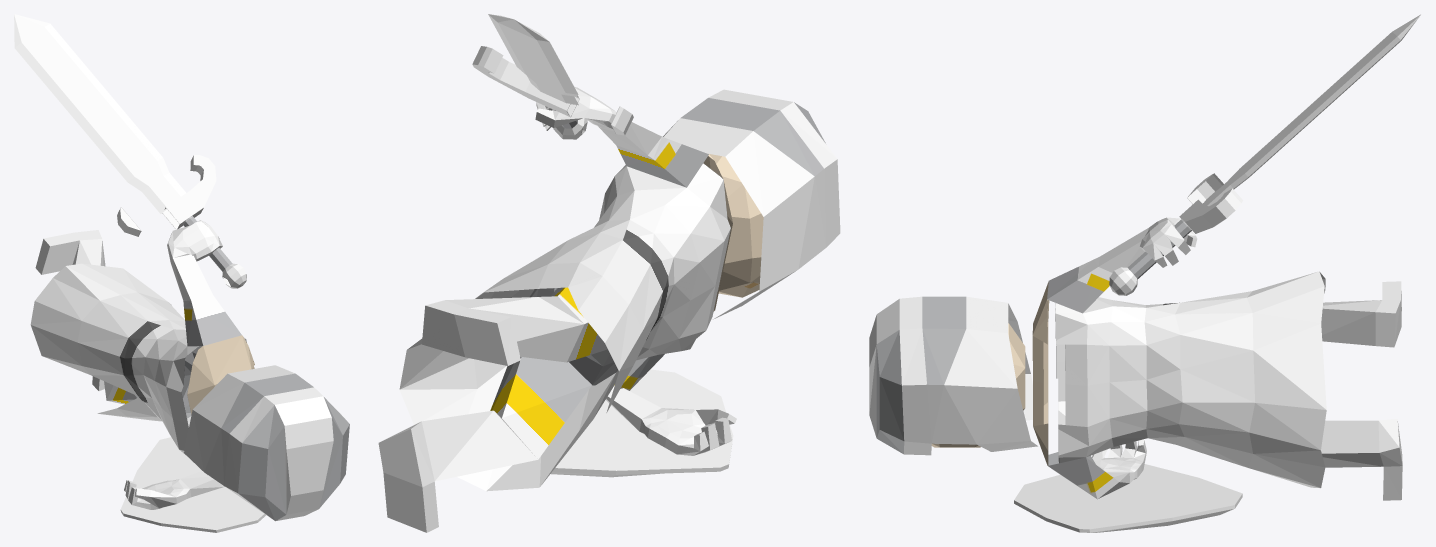
File: knight_defend.obj
3 views of the same model, side by side, from view 1: azimuth 30°, elevation 25°; view 2: azimuth 150°, elevation 25°; view 3: azimuth 270°, elevation 25° (orthographic). The views are drawn at different scales.
Visible parts, largest first — view 1: knight; view 2: knight; view 3: knight.
Part boxes in pixels (left/top/right/bottom): knight: left=14, top=14, right=349, bottom=532; knight: left=378, top=14, right=840, bottom=532; knight: left=869, top=14, right=1420, bottom=532.
Bounding box in the file's own units: 3.64 × 8.36 × 8.89.
Materials: 1 (1 with a texture image).
